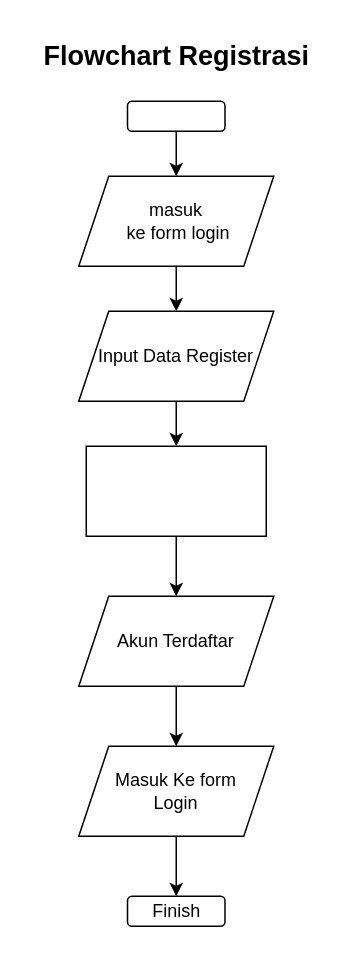
The diagram is 351 pixels wide and 953 high, and some of its shapes have lost their labels. Here are the shapes that lost their labels. From the top down, the centre of each, then its label:
(175,115): Start
(175,490): Data Masuk Ke Database
